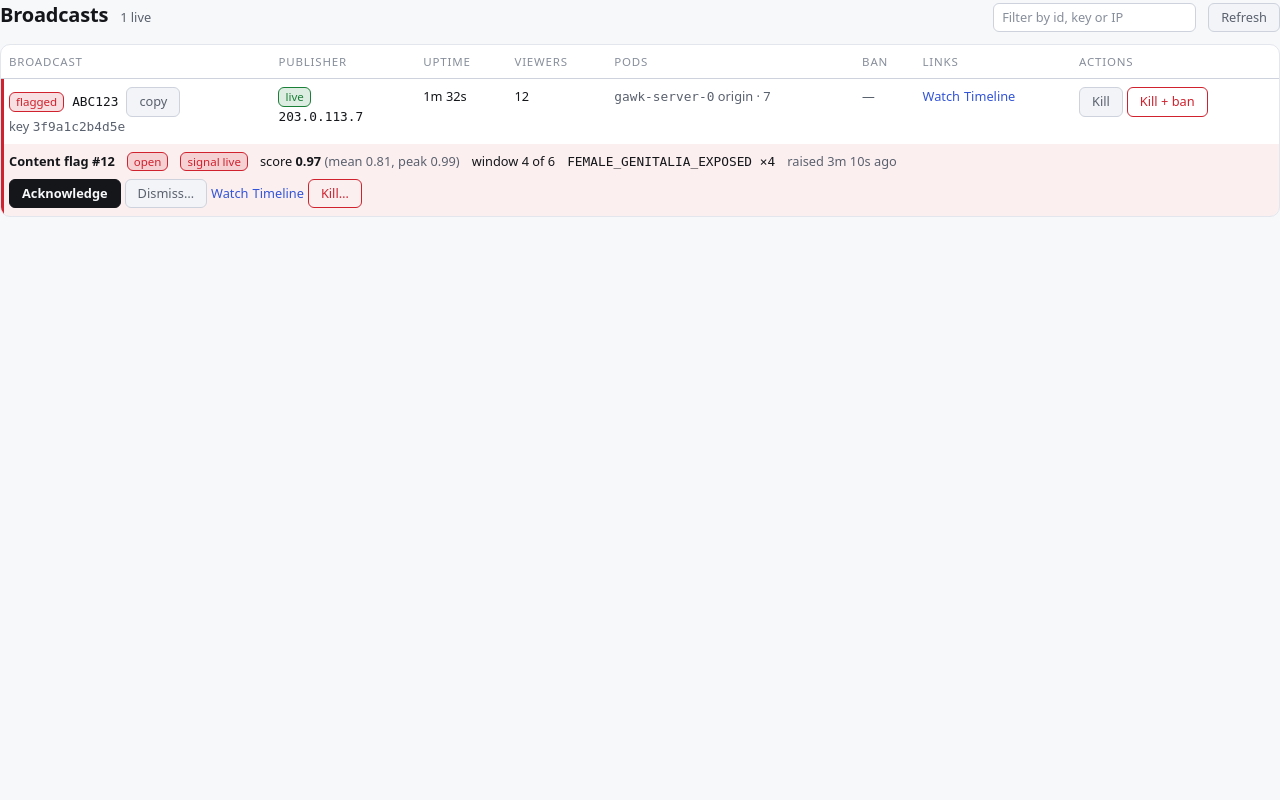
Test case: the actions › dismisses only after a confirm that says what the mute does
Click the button "Dismiss…". click: (166, 194)
box: x1=125 y1=179 x2=207 y2=208
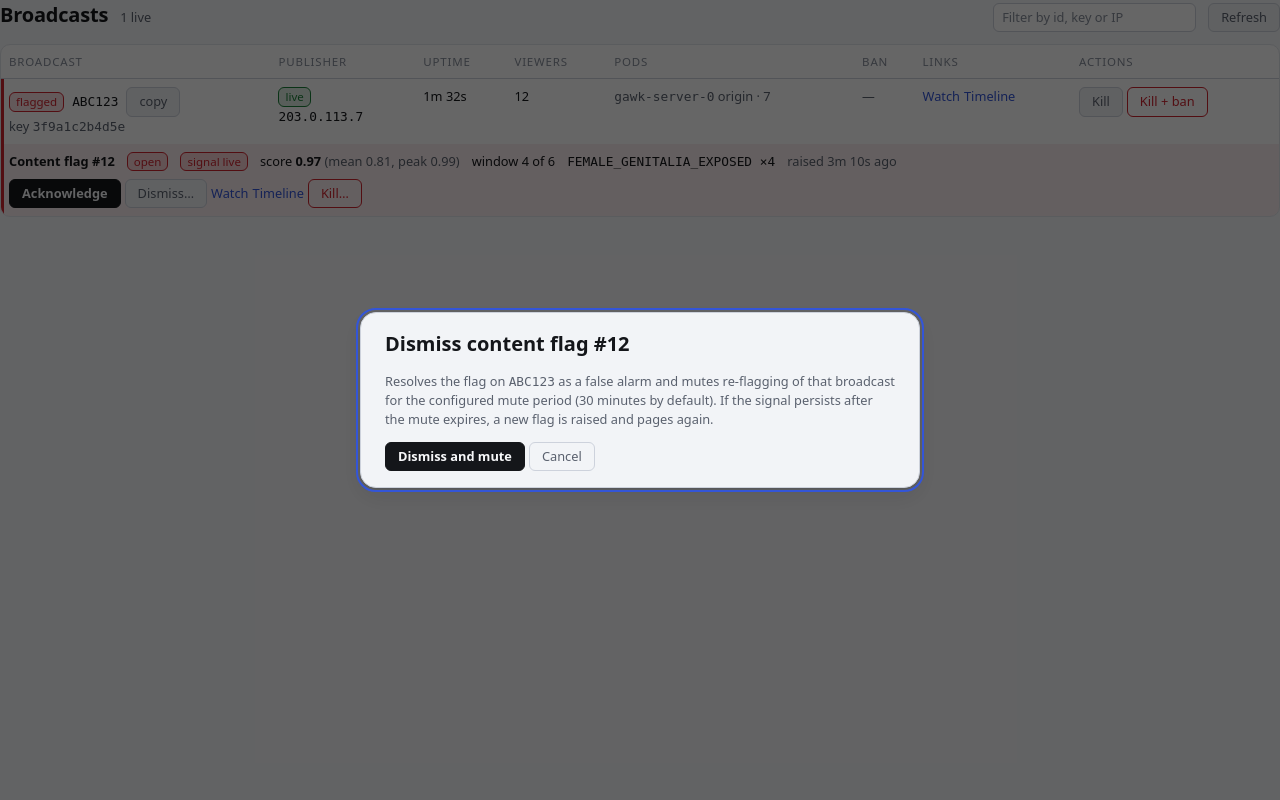
Now the text "mutes re-flagging of that broadcast" is shown, box x1=385 y1=372 x2=895 y2=428
Click the button "Dismiss and mute". click: (455, 457)
box: x1=385 y1=442 x2=525 y2=471
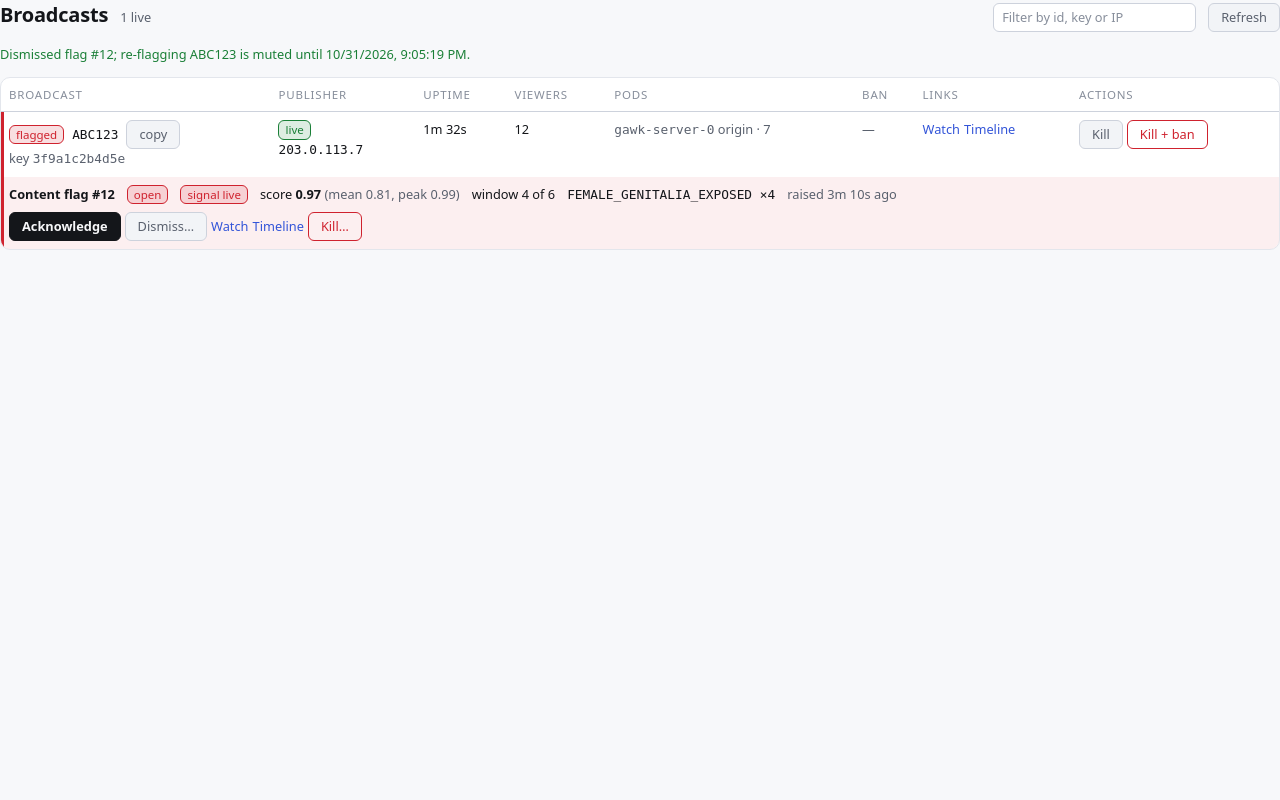
Now the text "Dismissed flag #12; re-flagging ABC123 is muted until" is shown, box x1=0 y1=45 x2=470 y2=63
Now the dialog is gone
